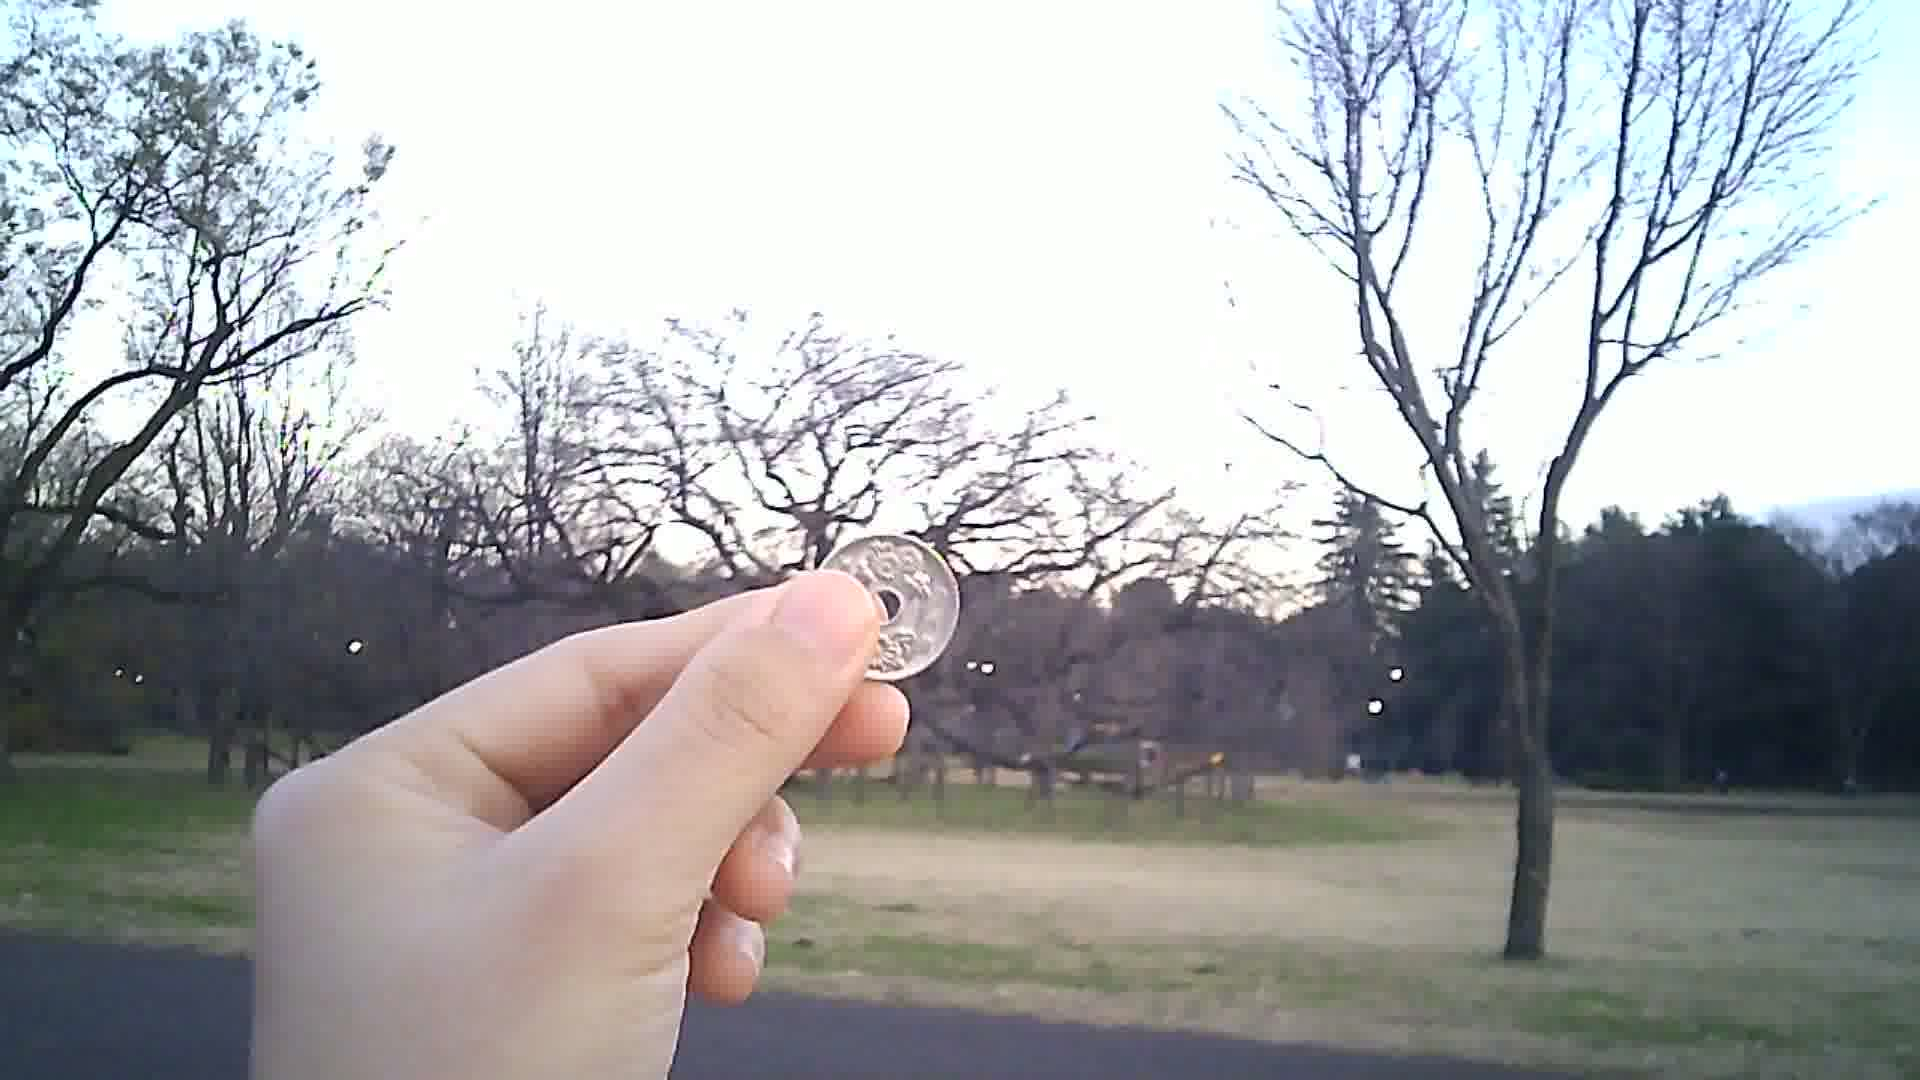50 Yen: (808, 524, 953, 687)
